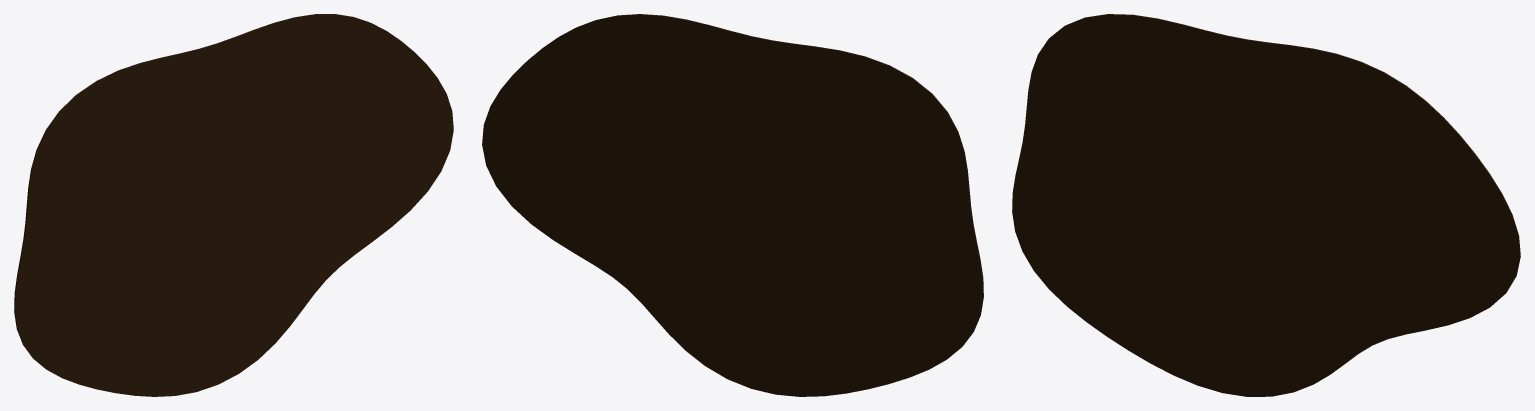
File: fault_oil_puddle.glb
The picture shows the model from 3 angles, left to right: view 1: azimuth 30°, elevation 25°; view 2: azimuth 150°, elevation 25°; view 3: azimuth 330°, elevation 25°; orthographic projection. The views are drawn at different scales.
Visible parts, largest first — view 1: fault_oil_puddle; view 2: fault_oil_puddle; view 3: fault_oil_puddle.
Part boxes in pixels (bbox=[...]): fault_oil_puddle: bbox=[14, 14, 453, 396]; fault_oil_puddle: bbox=[482, 14, 983, 396]; fault_oil_puddle: bbox=[1012, 14, 1520, 396].
Bounding box in the file's own units: 0.955 × 0.6823 × 0.0865.
